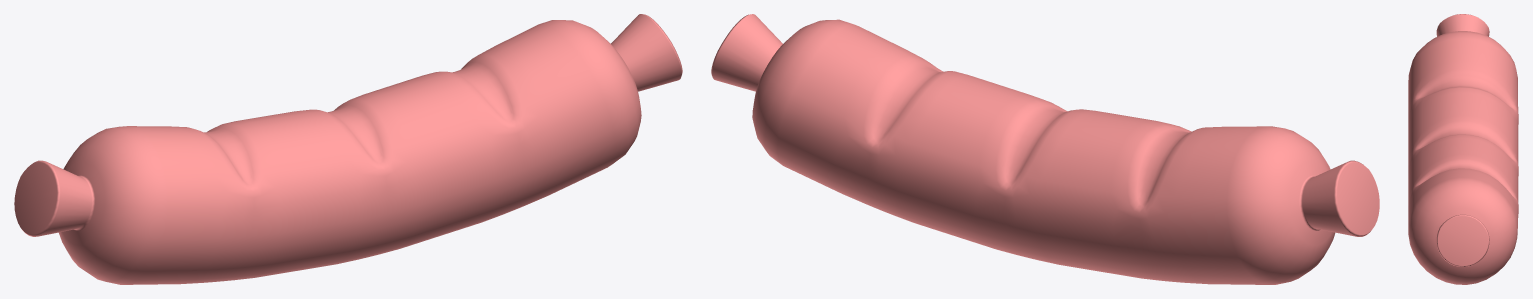
File: Store_12_Sausage_2.glb
The picture shows the model from 3 angles, left to right: view 1: azimuth 30°, elevation 25°; view 2: azimuth 150°, elevation 25°; view 3: azimuth 270°, elevation 25°; orthographic projection. The views are drawn at different scales.
Parts seen in each view (by area): view 1: Store_12_Sausage_2; view 2: Store_12_Sausage_2; view 3: Store_12_Sausage_2.
Boxes of the visible parts, box(x1,y1,x2,y2) form: Store_12_Sausage_2: box(14, 14, 682, 284); Store_12_Sausage_2: box(711, 14, 1379, 284); Store_12_Sausage_2: box(1408, 14, 1518, 284).
Size of the model in its own units: 0.3863 by 0.0983 by 0.0831.
1 material, 1 textured.
